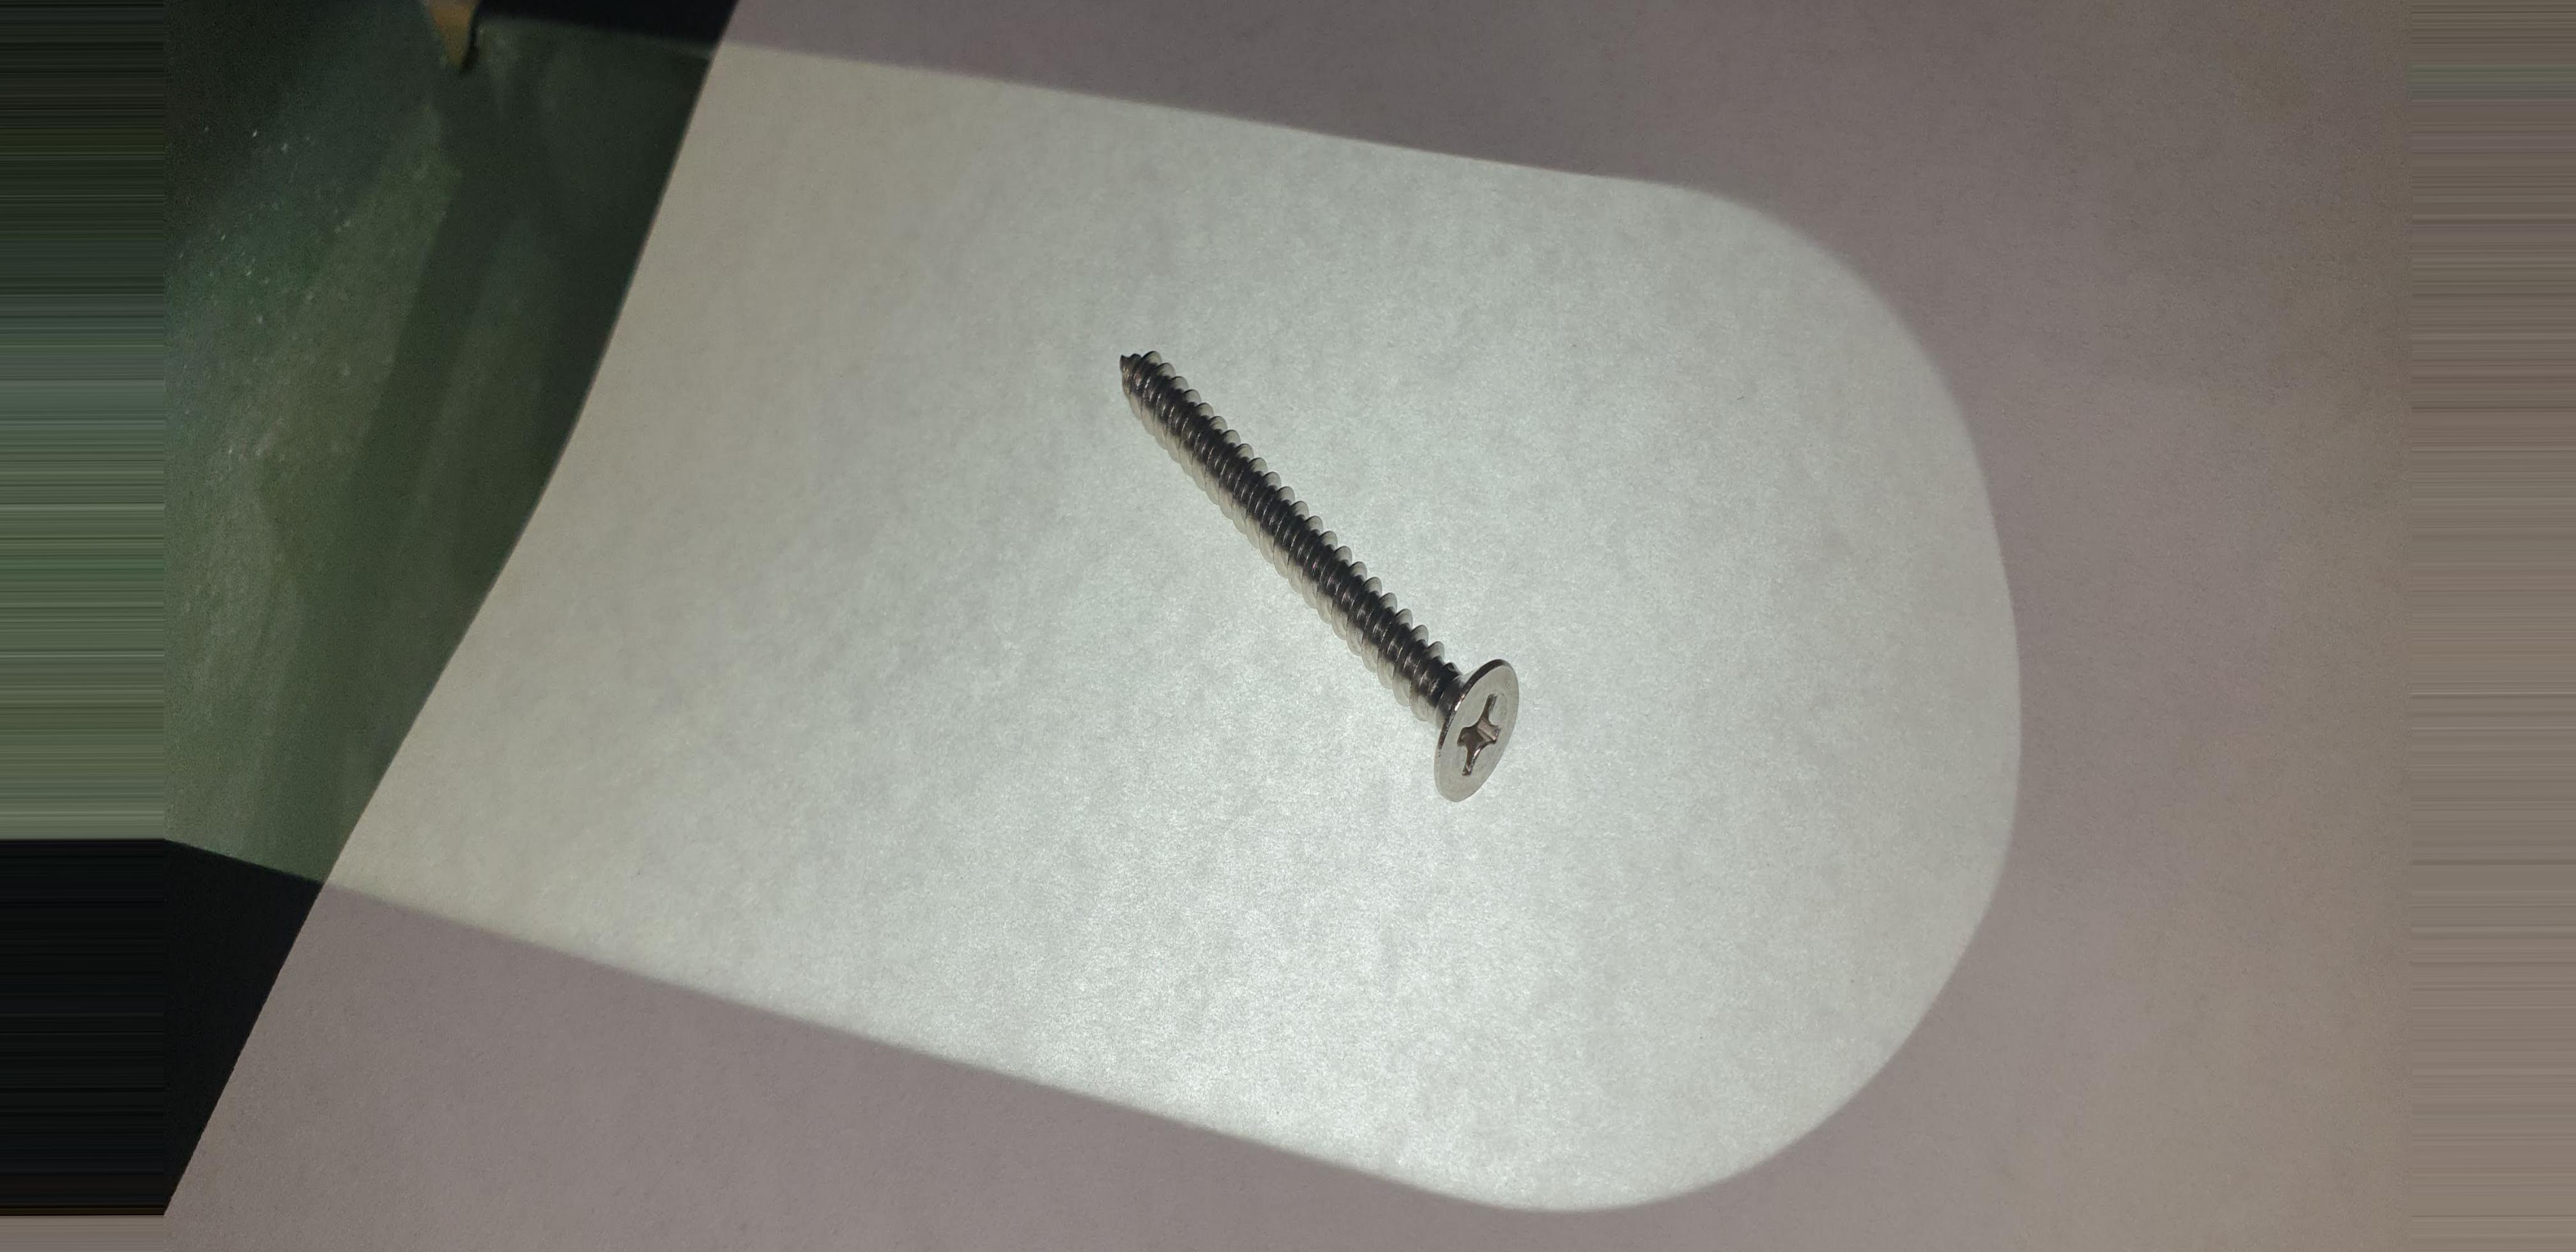fastener: (1045, 307, 1597, 822)
